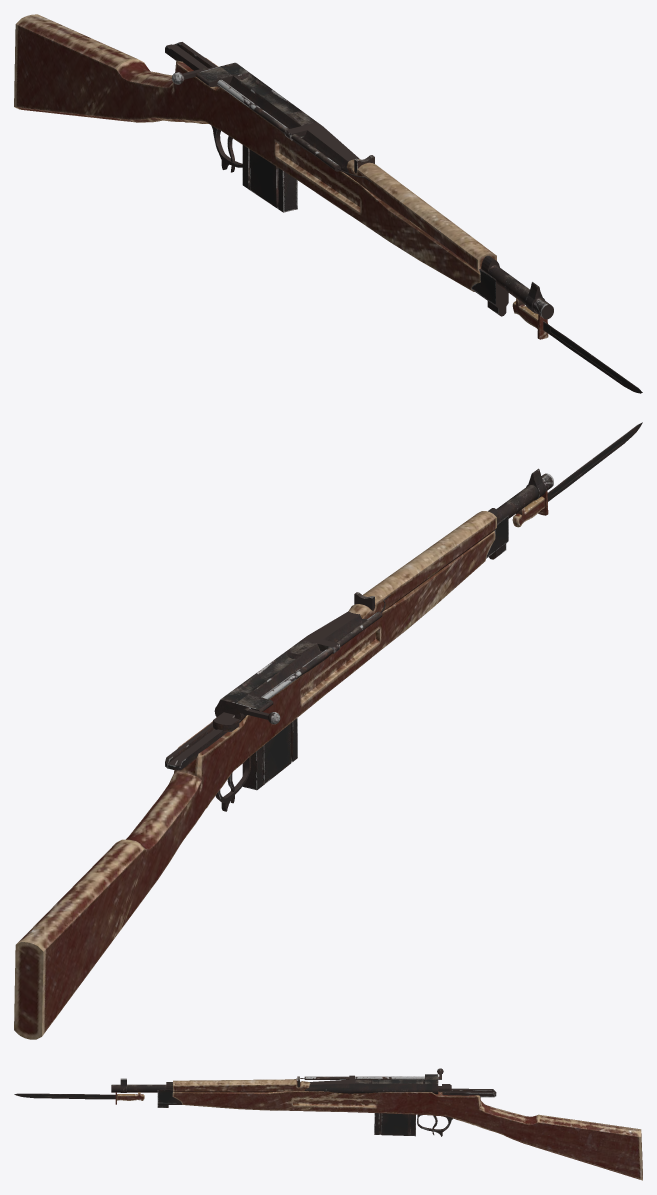
The model's file is cei.glb.
3 views of the same model, one above another, from view 1: azimuth 30°, elevation 25°; view 2: azimuth 150°, elevation 25°; view 3: azimuth 270°, elevation 25° (orthographic). The views are drawn at different scales.
Visible parts, largest first — view 1: Madera_Frame_low, Madera_Encima_low, Metales_Recamara_low, Metales_Cargador_low, object 7, Metales_Cerrojo_low, Bayoneta_Hoja_low, Metales_Frente_low, Metales_Detras_low; view 2: Madera_Frame_low, Metales_Recamara_low, Madera_Encima_low, Metales_Cargador_low, Metales_Cerrojo_low, object 7, Metales_Detras_low, Bayoneta_Hoja_low; view 3: Madera_Frame_low, Metales_Recamara_low, Madera_Encima_low, Metales_Cargador_low, object 7, Bayoneta_Hoja_low, Metales_Cerrojo_low, Metales_Detras_low, Metales_Frente_low, Bayoneta_Mango_low, Metales_Guardia_low.
Boxes of the visible parts, x1,y1,x2,y2 form: Madera_Frame_low: (14,14,480,291); Madera_Encima_low: (346,159,496,272); Metales_Recamara_low: (195,62,359,175); Metales_Cargador_low: (242,145,297,212); object 7: (481,255,553,319); Metales_Cerrojo_low: (182,67,371,182); Bayoneta_Hoja_low: (543,321,642,393); Metales_Frente_low: (471,269,508,316); Metales_Detras_low: (165,42,217,70); Madera_Frame_low: (14,531,495,1039); Metales_Recamara_low: (214,611,366,722); Madera_Encima_low: (348,511,496,618); Metales_Cargador_low: (242,718,297,790); Metales_Cerrojo_low: (242,595,390,719); object 7: (488,468,553,522); Metales_Detras_low: (165,722,227,770); Bayoneta_Hoja_low: (547,422,642,501); Madera_Frame_low: (172,1091,642,1180); Metales_Recamara_low: (304,1074,438,1094); Madera_Encima_low: (173,1079,310,1092); Metales_Cargador_low: (374,1113,415,1136); object 7: (111,1078,172,1092); Bayoneta_Hoja_low: (14,1093,115,1099); Metales_Cerrojo_low: (294,1071,441,1079); Metales_Detras_low: (442,1088,496,1097); Metales_Frente_low: (157,1089,182,1107); Bayoneta_Mango_low: (117,1092,144,1100); Metales_Guardia_low: (417,1114,453,1136).
Size of the model in its own units: 0.761 by 2.13 by 12.03.
3 materials, 3 textured.
